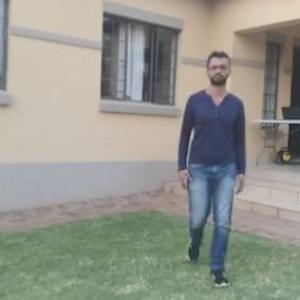follow: (173, 41, 247, 290)
